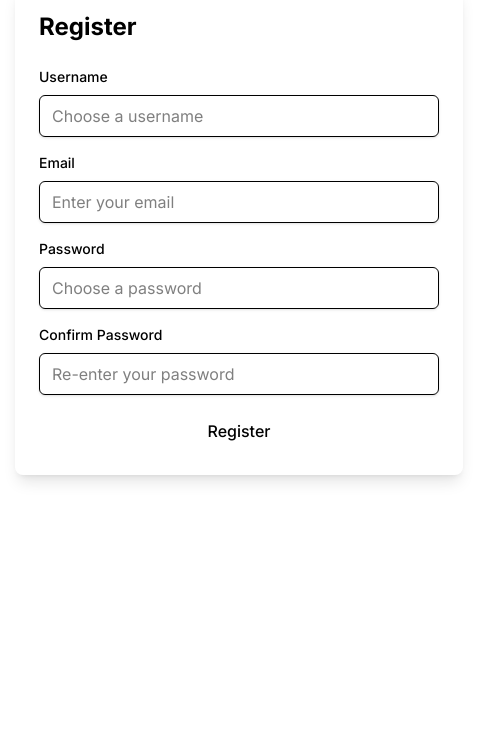
Test: RegisterForm › Error Handling › only shows errors after form submission
In the field labelled "Username": (239, 116) [39,95,439,137], type "taken"
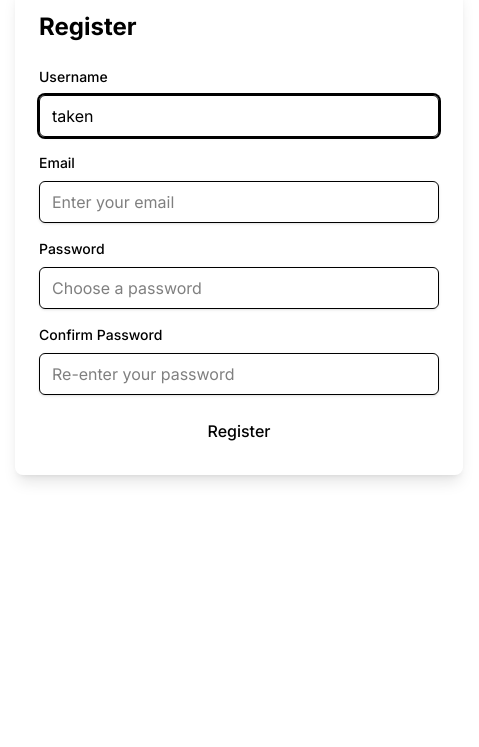
In the field labelled "Email": (239, 202) [39,181,439,223], type "taken@example.com"
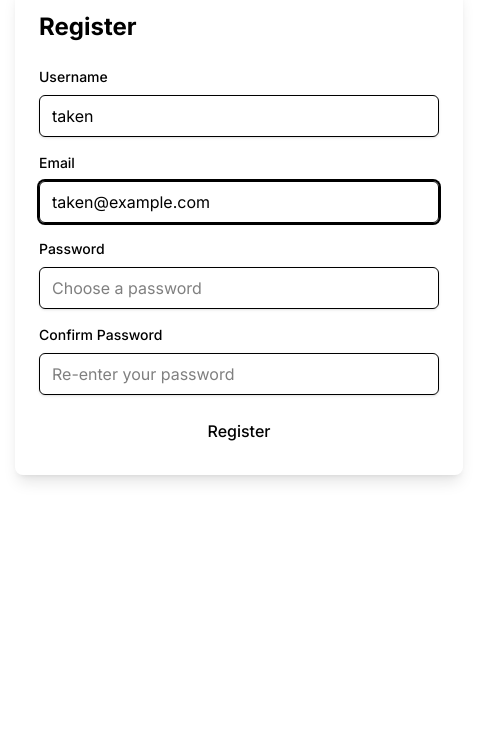
In the password field labelled "Password": (239, 288) [39,267,439,309], type "password123"
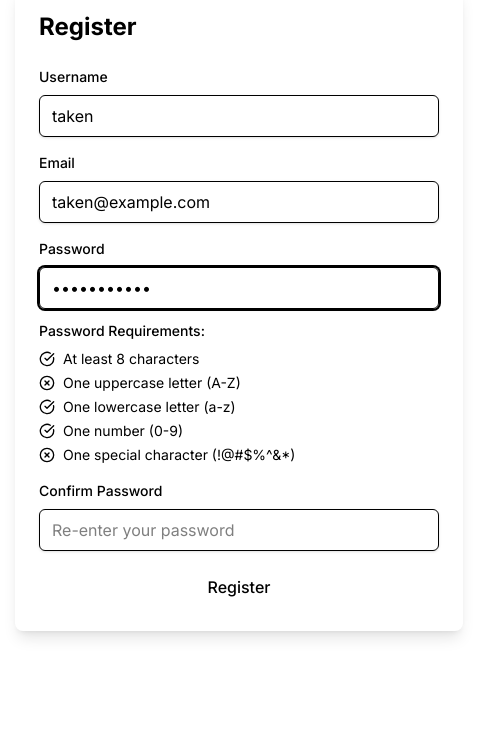
In the password field labelled "Confirm Password": (239, 530) [39,509,439,551], type "password123"
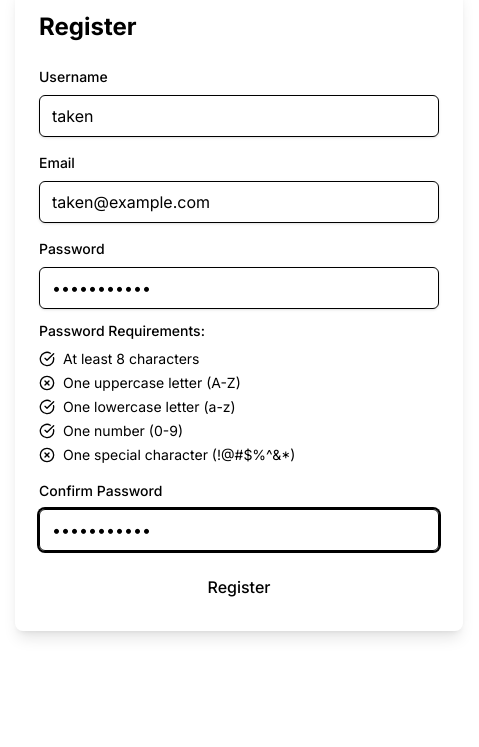
Click the button "Register": (239, 587) [39,567,439,607]
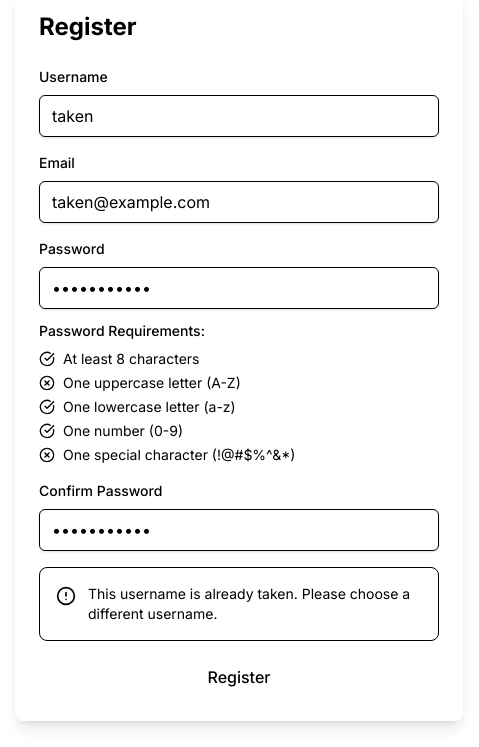
Expected: the message "This username is already taken. Please choose a different username." is shown, [39,567,439,641]
Expected: the text "This username is already taken" is shown, [88,585,410,622]
